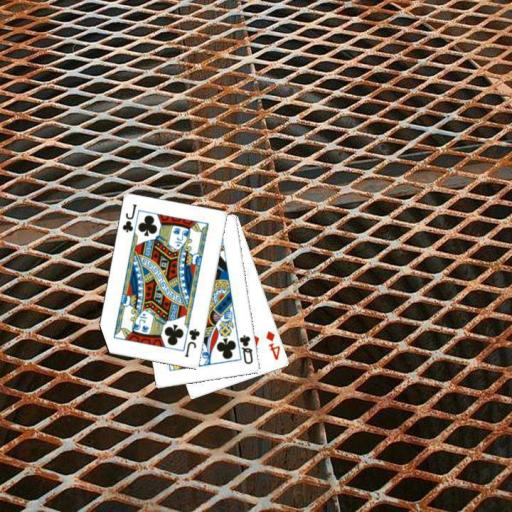card-corner: (263, 328, 282, 362), (182, 326, 201, 359), (236, 332, 254, 366), (120, 201, 138, 234)
